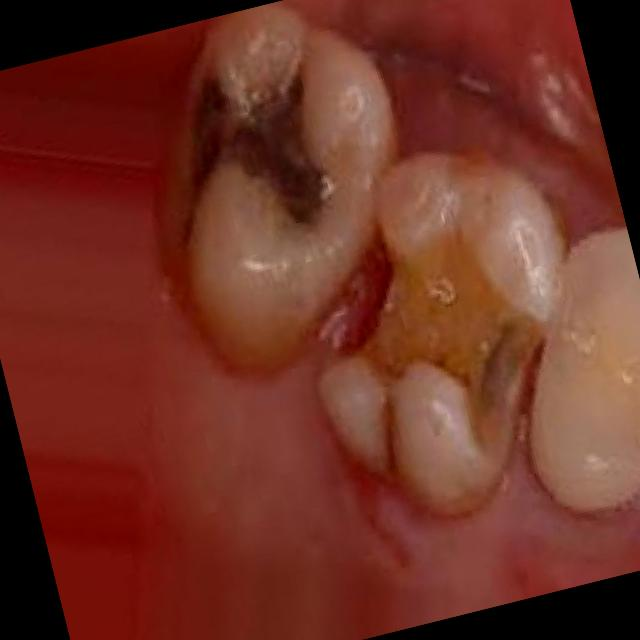caries: (330, 225, 550, 460), (180, 73, 334, 248)
